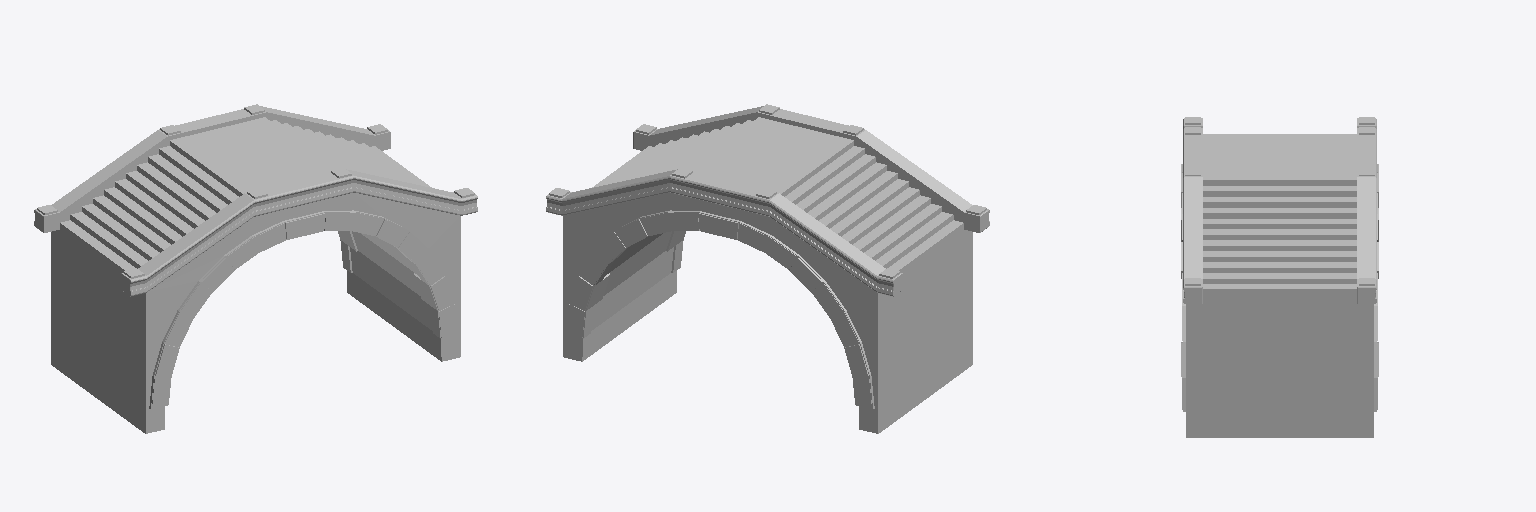
The model's file is bridge.obj.
3 renders of one model, left to right at view 1: azimuth 30°, elevation 25°; view 2: azimuth 150°, elevation 25°; view 3: azimuth 270°, elevation 25°, orthographic.
Visible parts, largest first — view 1: PC012_[number redacted]_1432:pCylinder30_Untitled; view 2: PC012_[number redacted]_1432:pCylinder30_Untitled; view 3: PC012_[number redacted]_1432:pCylinder30_Untitled.
Part boxes in pixels (x1,y1,x2,y2): PC012_[number redacted]_1432:pCylinder30_Untitled: (34,104,477,433); PC012_[number redacted]_1432:pCylinder30_Untitled: (546,104,989,433); PC012_[number redacted]_1432:pCylinder30_Untitled: (1181,117,1378,437).
Bounding box in the file's own units: 2.69 × 1.56 × 1.33.